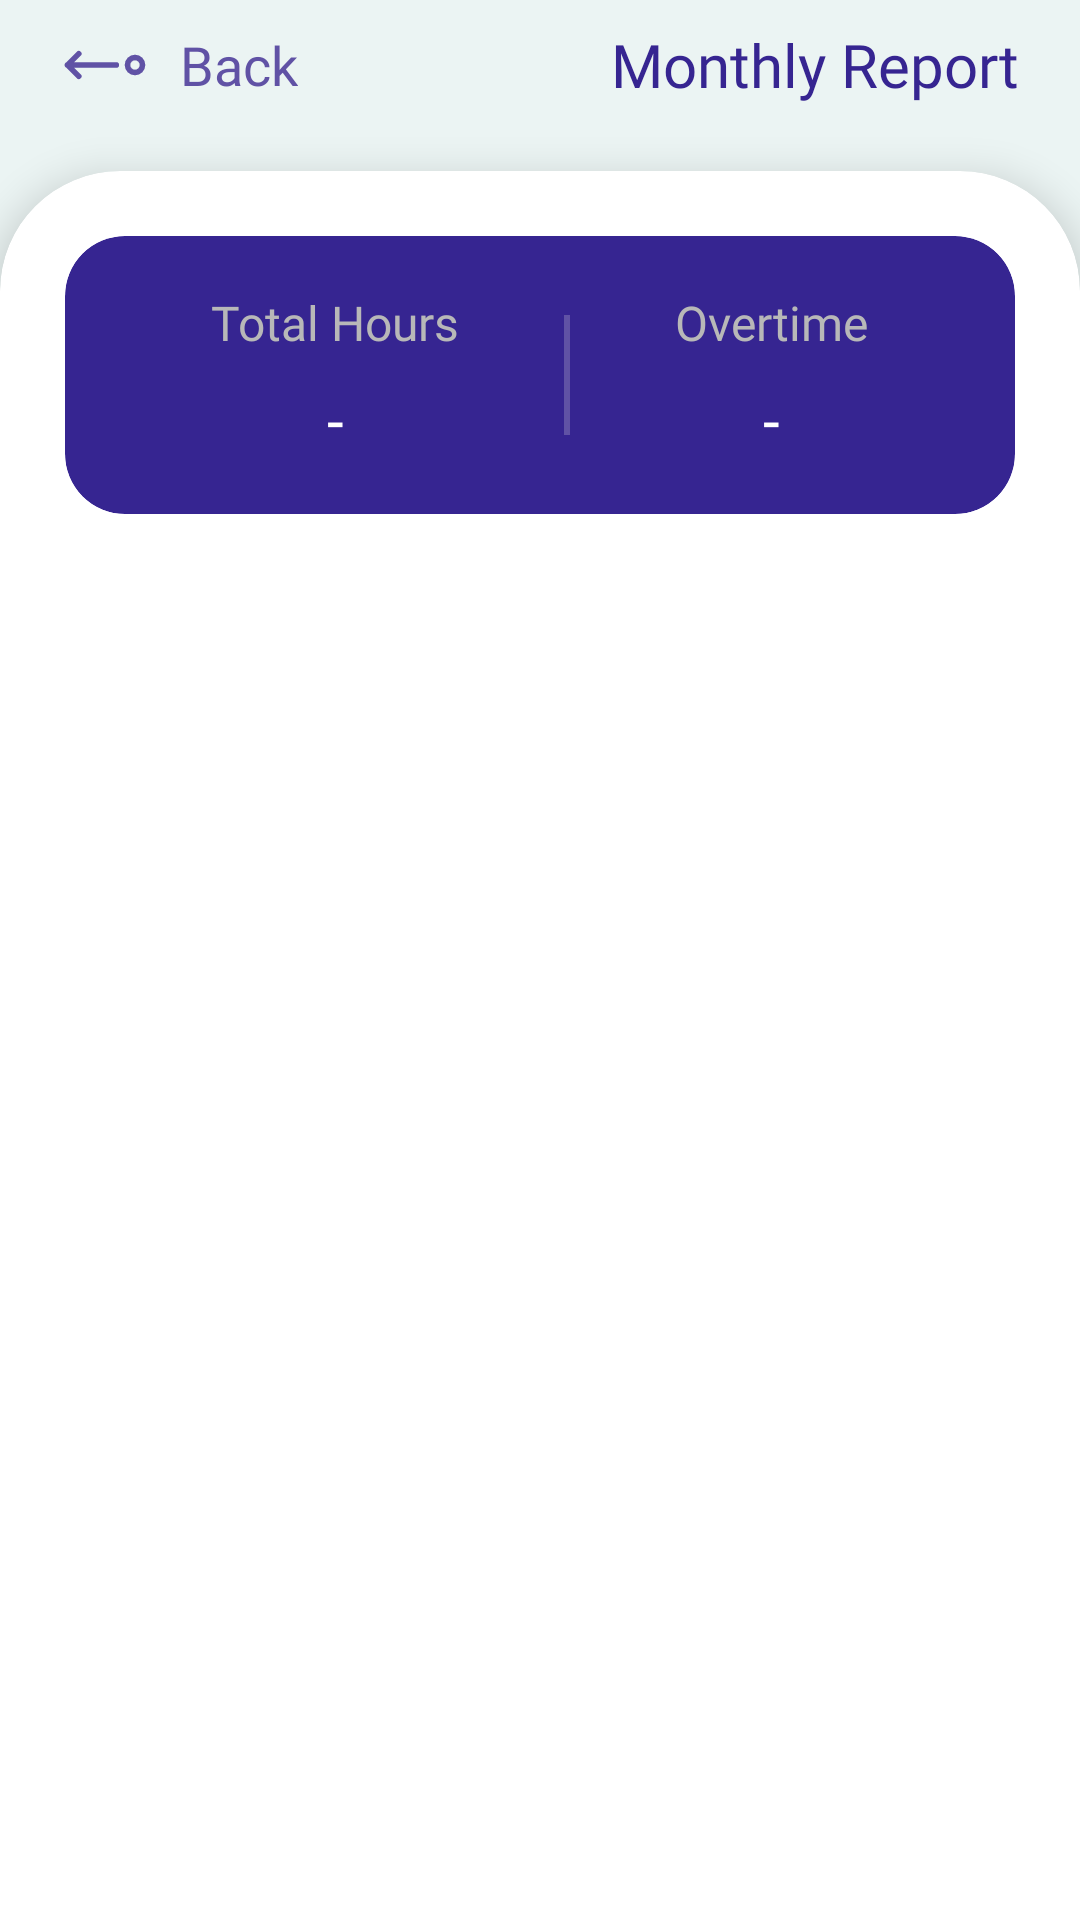

Point at icon controls on the screen. Image size 1080px x 1920px, points as [x,y].
dot arrow left: [105,65]
